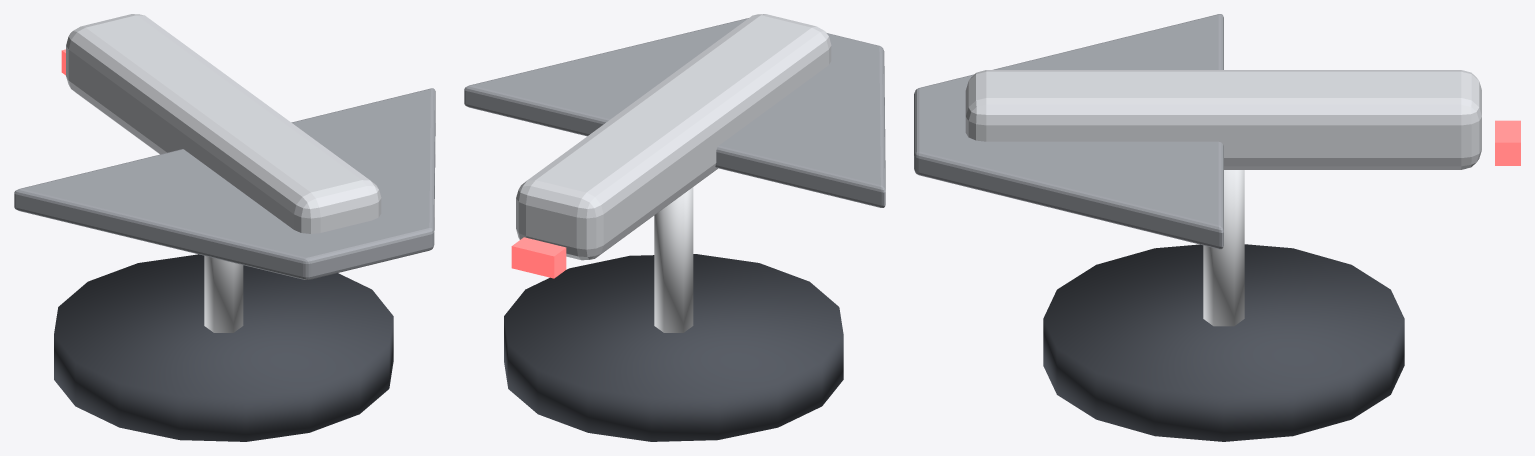
File: ship_model_fighter.glb
The picture shows the model from 3 angles, left to right: view 1: azimuth 30°, elevation 25°; view 2: azimuth 150°, elevation 25°; view 3: azimuth 270°, elevation 25°; orthographic projection. The views are drawn at different scales.
Parts seen in each view (by area): view 1: GD_ship_model_fighter__m0, GD_ship_model_fighter__m3, GD_ship_model_fighter__m2, GD_ship_model_fighter__m1; view 2: GD_ship_model_fighter__m0, GD_ship_model_fighter__m2, GD_ship_model_fighter__m3, GD_ship_model_fighter__m1, GD_ship_model_fighter__m4; view 3: GD_ship_model_fighter__m0, GD_ship_model_fighter__m2, GD_ship_model_fighter__m3, GD_ship_model_fighter__m1, GD_ship_model_fighter__m4.
Part boxes in pixels (x1,y1,x2,y2): GD_ship_model_fighter__m0: (54,254,393,441); GD_ship_model_fighter__m3: (14,88,435,279); GD_ship_model_fighter__m2: (66,14,381,233); GD_ship_model_fighter__m1: (204,256,243,332); GD_ship_model_fighter__m0: (504,254,843,441); GD_ship_model_fighter__m2: (516,14,831,260); GD_ship_model_fighter__m3: (464,18,885,207); GD_ship_model_fighter__m1: (654,187,693,332); GD_ship_model_fighter__m4: (511,237,566,278); GD_ship_model_fighter__m0: (1043,244,1404,441); GD_ship_model_fighter__m2: (965,70,1481,169); GD_ship_model_fighter__m3: (914,14,1223,249); GD_ship_model_fighter__m1: (1203,170,1244,326); GD_ship_model_fighter__m4: (1495,120,1520,165).
Size of the model in its own units: 0.1986 by 0.12 by 0.235.
